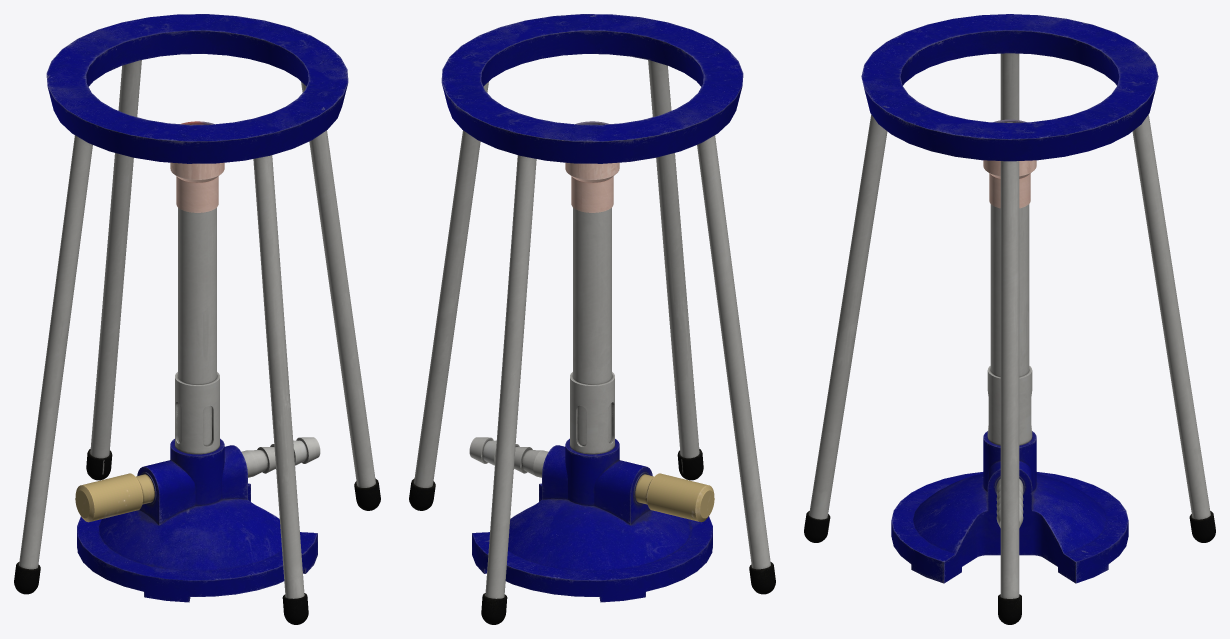
3 views of the same model, side by side, from view 1: azimuth 30°, elevation 25°; view 2: azimuth 150°, elevation 25°; view 3: azimuth 270°, elevation 25° (orthographic).
Parts seen in each view (by area): view 1: burner_stand, bunsen_burner; view 2: burner_stand, bunsen_burner; view 3: burner_stand, bunsen_burner.
Part boxes in pixels (left/top/right/bottom): burner_stand: left=14, top=14, right=380, bottom=624; bunsen_burner: left=75, top=121, right=320, bottom=602; burner_stand: left=409, top=14, right=775, bottom=624; bunsen_burner: left=469, top=121, right=714, bottom=602; burner_stand: left=804, top=14, right=1215, bottom=624; bunsen_burner: left=891, top=119, right=1128, bottom=583.
Bounding box in the file's own units: 0.1389 × 0.1731 × 0.1389.
1 material, 1 textured.
